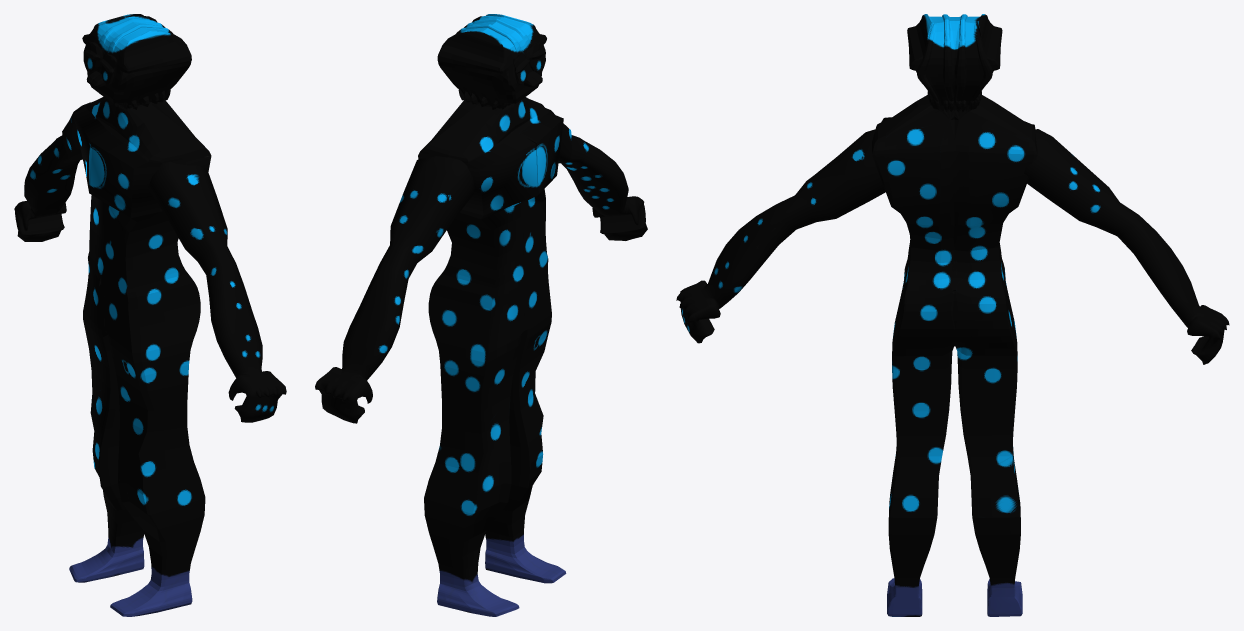
The model's file is Robot.FBX.
3 views of the same model, side by side, from view 1: azimuth 30°, elevation 25°; view 2: azimuth 150°, elevation 25°; view 3: azimuth 270°, elevation 25° (orthographic). The views are drawn at different scales.
Parts seen in each view (by area): view 1: node_id8, node_id6, node_id7; view 2: node_id8, node_id7, node_id6; view 3: node_id8, node_id6, node_id7.
Part boxes in pixels (bbox=[...]): node_id8: bbox=[69, 14, 211, 616]; node_id6: bbox=[148, 161, 286, 422]; node_id7: bbox=[14, 102, 90, 241]; node_id8: bbox=[418, 14, 566, 616]; node_id7: bbox=[315, 156, 474, 423]; node_id6: bbox=[545, 108, 647, 240]; node_id8: bbox=[872, 14, 1037, 616]; node_id6: bbox=[676, 129, 885, 343]; node_id7: bbox=[1024, 129, 1229, 364].
Size of the model in its own units: 0.0359 by 0.2016 by 0.1724.
5 materials, 5 textured.
